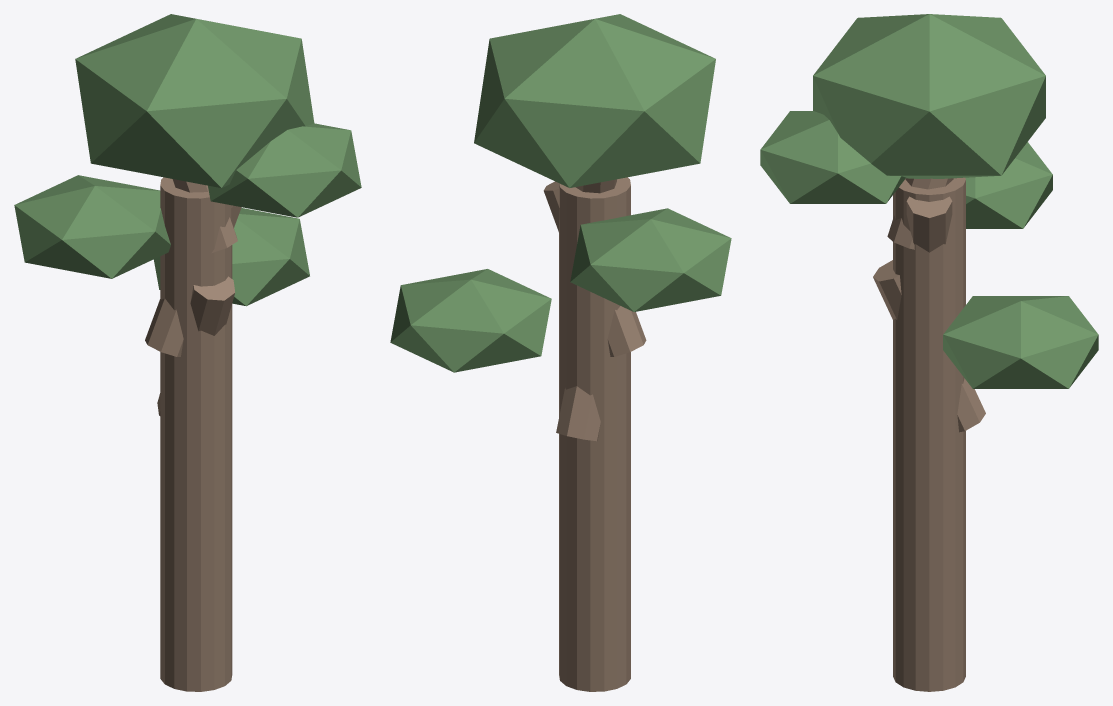
Rendered from oak_growing.glb.
3 views of the same model, side by side, from view 1: azimuth 30°, elevation 25°; view 2: azimuth 150°, elevation 25°; view 3: azimuth 270°, elevation 25° (orthographic).
Visible parts, largest first — view 1: Oak_Growing_Trunk, Oak_Growing_LeafCluster_4, Oak_Growing_LeafCluster_2, Oak_Growing_LeafCluster_3, Oak_Growing_LeafCluster_1, Oak_Growing_Branch_1, Oak_Growing_Branch_2, Oak_Growing_Branch_3; view 2: Oak_Growing_LeafCluster_4, Oak_Growing_Trunk, Oak_Growing_LeafCluster_1, Oak_Growing_LeafCluster_2, Oak_Growing_Branch_2, Oak_Growing_Branch_1; view 3: Oak_Growing_Trunk, Oak_Growing_LeafCluster_4, Oak_Growing_LeafCluster_1, Oak_Growing_LeafCluster_3, Oak_Growing_LeafCluster_2, Oak_Growing_Branch_2, Oak_Growing_Branch_1, Oak_Growing_Branch_3.
Part boxes in pixels (x1,y1,x2,y2): Oak_Growing_Trunk: (160, 177, 232, 691); Oak_Growing_LeafCluster_4: (75, 14, 314, 187); Oak_Growing_LeafCluster_2: (14, 175, 170, 278); Oak_Growing_LeafCluster_3: (208, 123, 361, 217); Oak_Growing_LeafCluster_1: (153, 208, 309, 306); Oak_Growing_Branch_1: (157, 276, 235, 415); Oak_Growing_Branch_2: (145, 205, 241, 356); Oak_Growing_Branch_3: (172, 179, 237, 253); Oak_Growing_LeafCluster_4: (474, 14, 715, 187); Oak_Growing_Trunk: (559, 177, 630, 691); Oak_Growing_LeafCluster_1: (390, 269, 551, 372); Oak_Growing_LeafCluster_2: (570, 208, 731, 311); Oak_Growing_Branch_2: (543, 181, 646, 356); Oak_Growing_Branch_1: (556, 386, 600, 441); Oak_Growing_Trunk: (893, 177, 965, 691); Oak_Growing_LeafCluster_4: (813, 14, 1045, 178); Oak_Growing_LeafCluster_1: (943, 296, 1098, 388); Oak_Growing_LeafCluster_3: (760, 111, 905, 203); Oak_Growing_LeafCluster_2: (965, 142, 1052, 228); Oak_Growing_Branch_2: (906, 196, 952, 252); Oak_Growing_Branch_1: (873, 260, 985, 432); Oak_Growing_Branch_3: (887, 178, 953, 249).
Size of the model in its own units: 0.7578 by 1.6 by 0.7403.
